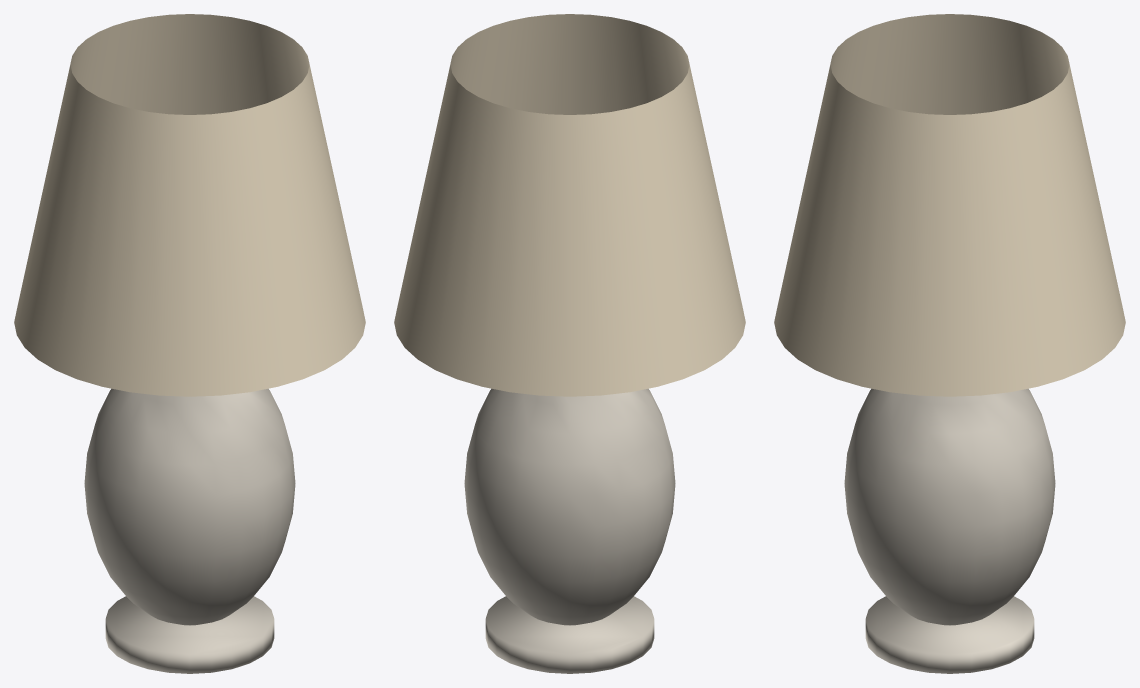
File: lampe_poser.glb
The picture shows the model from 3 angles, left to right: view 1: azimuth 30°, elevation 25°; view 2: azimuth 150°, elevation 25°; view 3: azimuth 270°, elevation 25°; orthographic projection.
Visible parts, largest first — view 1: abatjour, pied; view 2: abatjour, pied; view 3: abatjour, pied.
Part boxes in pixels (left/top/right/bottom): abatjour: left=14, top=14, right=365, bottom=396; pied: left=84, top=388, right=295, bottom=673; abatjour: left=394, top=14, right=745, bottom=396; pied: left=464, top=388, right=675, bottom=673; abatjour: left=774, top=14, right=1125, bottom=396; pied: left=844, top=388, right=1055, bottom=673.
Bounding box in the file's own units: 0.25 × 0.45 × 0.25.
